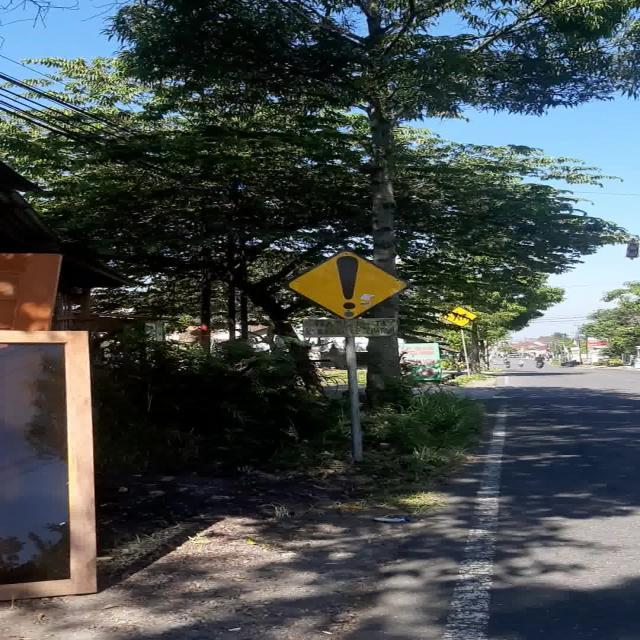Hati-Hati: (284, 250, 409, 320)
